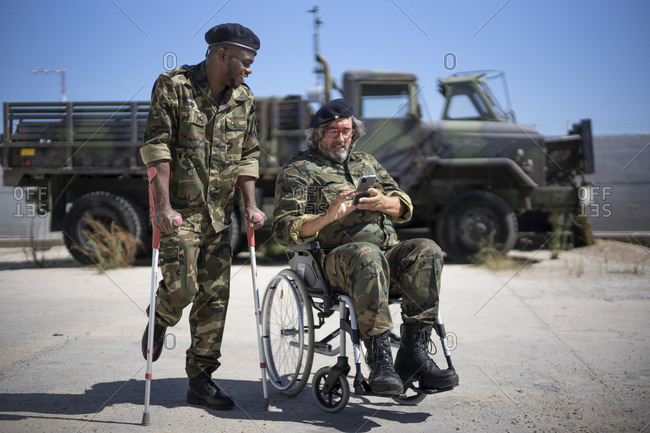crutches: (137, 22, 274, 424)
wheelchair: (260, 98, 459, 413)
